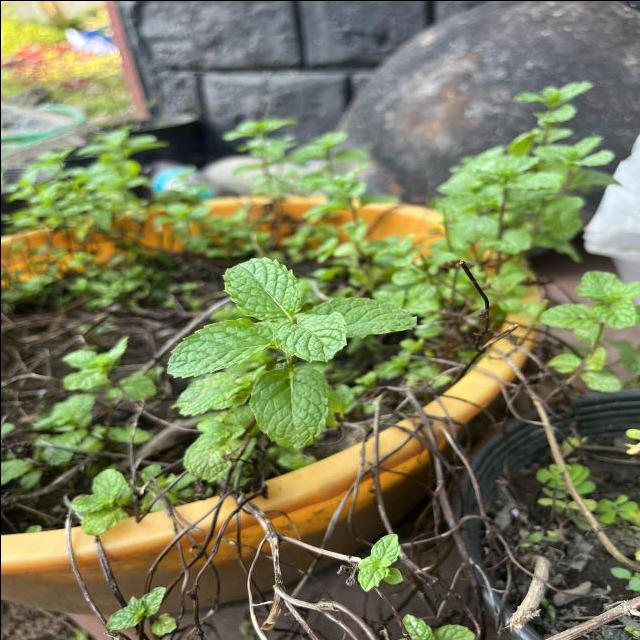Mentha spicata: (247, 366, 331, 448), (165, 316, 274, 378), (222, 255, 302, 322), (302, 296, 418, 338), (270, 310, 348, 363)
